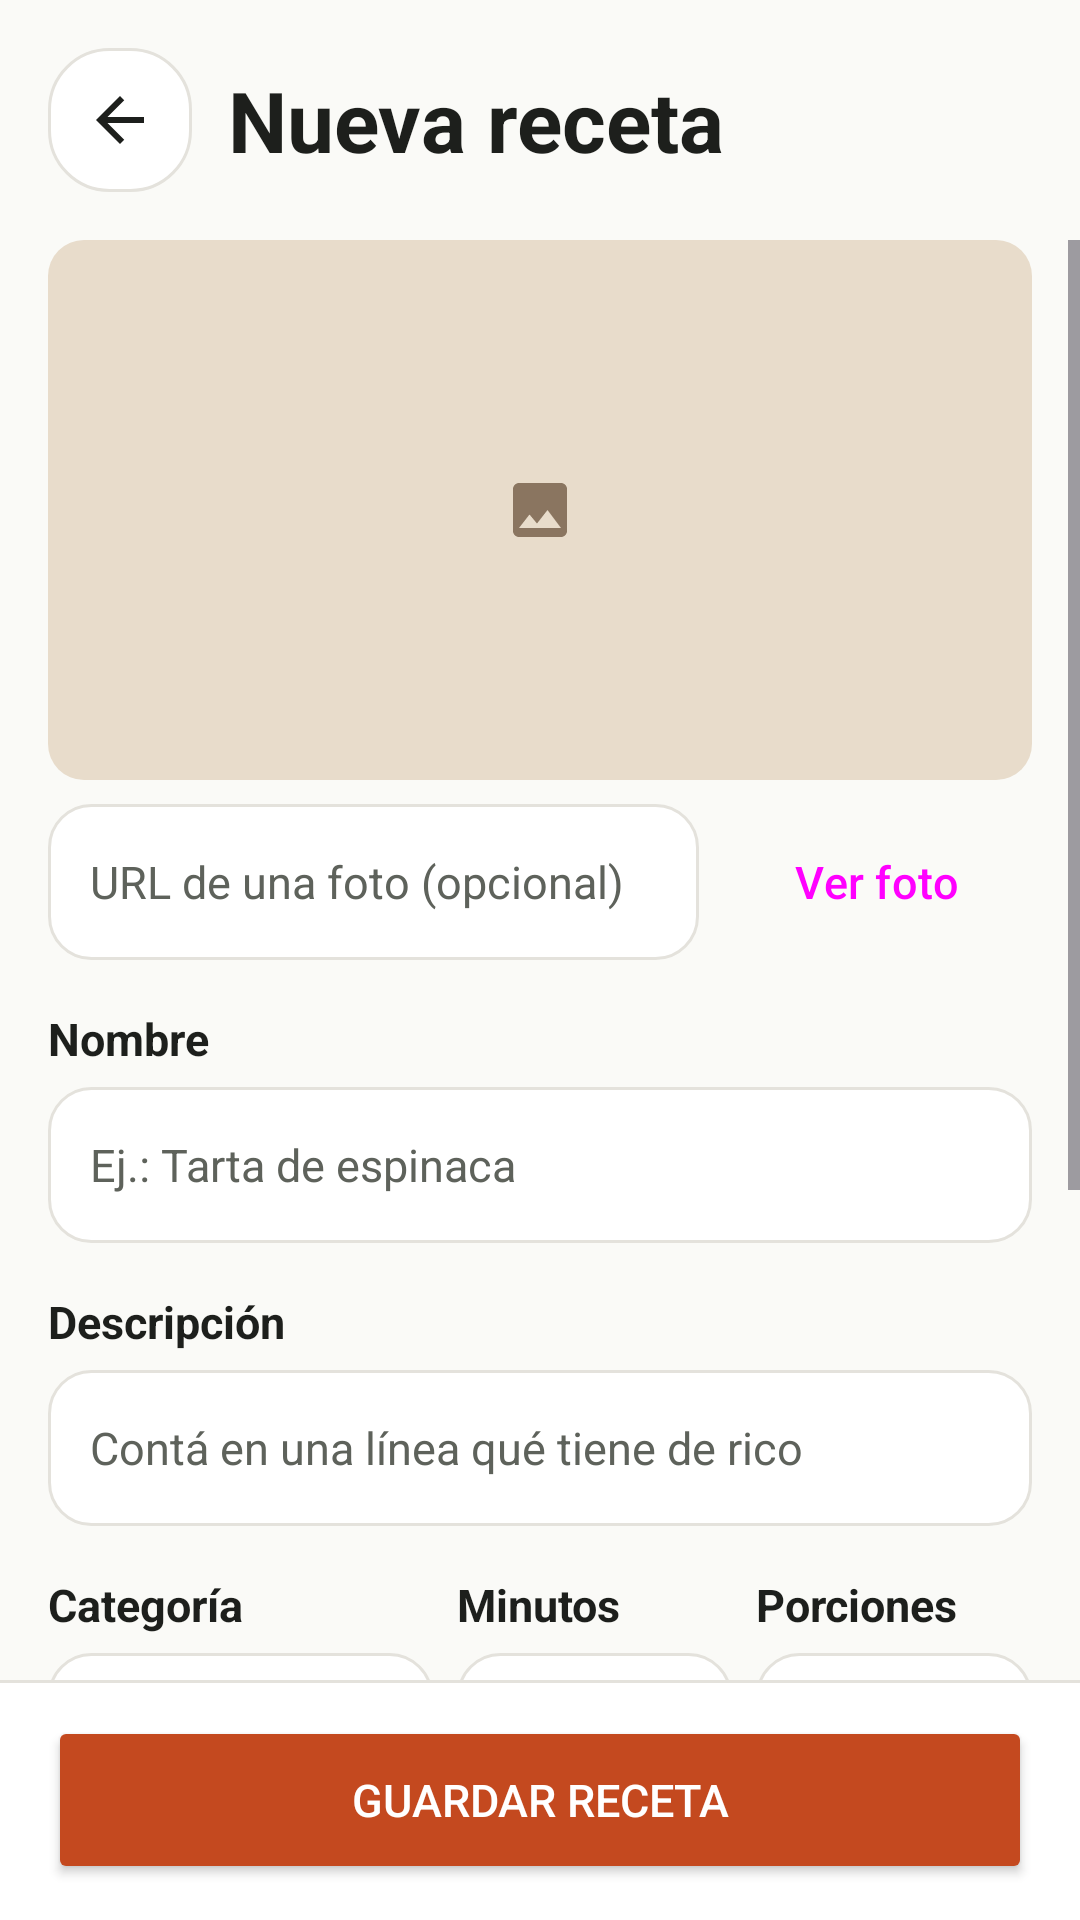

Icons on this 1080×1920 Android screen, each with its box as (x1, y1, x2, y2):
Volver: (48, 48, 192, 192)
